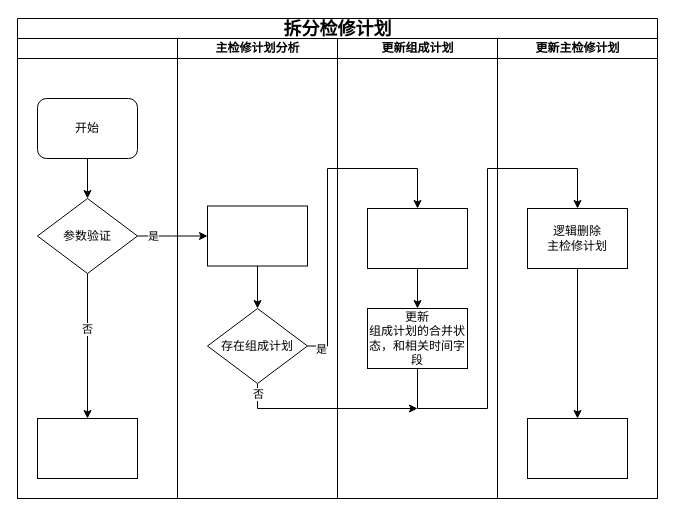
This 675x516 diagram has some shape labels left out. Here are the shapes that lost their labels. From the top down, the box of each, then its label:
(206, 205, 308, 266): 查询计划的 组成计划
(366, 208, 468, 268): 查询 检修计划变更信息
(16, 38, 178, 498): 接收请求
(36, 418, 138, 478): 失败返回
(526, 418, 628, 478): 成功返回
